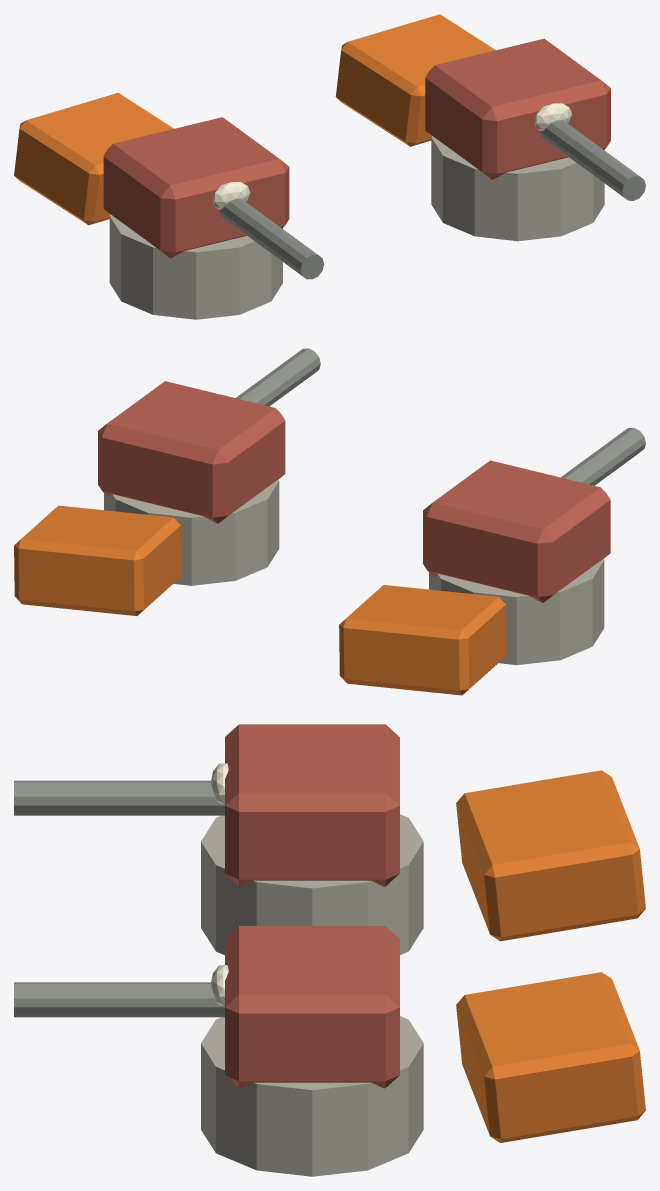
Rendered from SillyCastleTurrets.fbx.
The picture shows the model from 3 angles, top to bottom: view 1: azimuth 30°, elevation 25°; view 2: azimuth 150°, elevation 25°; view 3: azimuth 270°, elevation 25°; orthographic projection. The views are drawn at different scales.
Parts seen in each view (by area): view 1: Turret_0, Turret_1, TurretBase_0, TurretBase_1, TurretDamaged_1, TurretDamaged_0, Barrel_0, Barrel_1, TurretEye_1, TurretEye_0; view 2: Turret_0, Turret_1, TurretDamaged_0, TurretDamaged_1, TurretBase_1, TurretBase_0, Barrel_1, Barrel_0; view 3: Turret_0, Turret_1, TurretDamaged_1, TurretDamaged_0, TurretBase_1, TurretBase_0, Barrel_1, Barrel_0.
Boxes of the visible parts, <box> form: Turret_0: <box>103,117,289,258</box>; Turret_1: <box>425,38,610,179</box>; TurretBase_0: <box>109,214,282,319</box>; TurretBase_1: <box>431,136,604,241</box>; TurretDamaged_1: <box>335,14,495,146</box>; TurretDamaged_0: <box>14,93,173,225</box>; Barrel_0: <box>218,198,324,279</box>; Barrel_1: <box>540,120,645,200</box>; TurretEye_1: <box>534,103,571,130</box>; TurretEye_0: <box>212,182,250,209</box>; Turret_0: <box>423,460,610,602</box>; Turret_1: <box>98,381,285,523</box>; TurretDamaged_0: <box>339,585,506,695</box>; TurretDamaged_1: <box>14,505,181,615</box>; TurretBase_1: <box>104,479,279,585</box>; TurretBase_0: <box>429,558,604,665</box>; Barrel_1: <box>235,348,320,406</box>; Barrel_0: <box>561,427,645,485</box>; Turret_0: <box>225,724,399,886</box>; Turret_1: <box>225,926,399,1088</box>; TurretDamaged_1: <box>456,972,645,1142</box>; TurretDamaged_0: <box>456,770,645,941</box>; TurretBase_1: <box>201,1016,423,1176</box>; TurretBase_0: <box>201,814,423,954</box>; Barrel_1: <box>14,982,224,1017</box>; Barrel_0: <box>14,780,224,815</box>.
Bounding box in the file's own units: 8.8 × 2.35 × 7.94.
